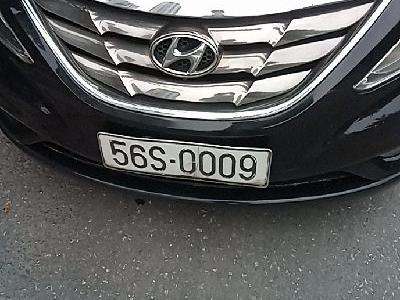lisence: (95, 129, 272, 189)
